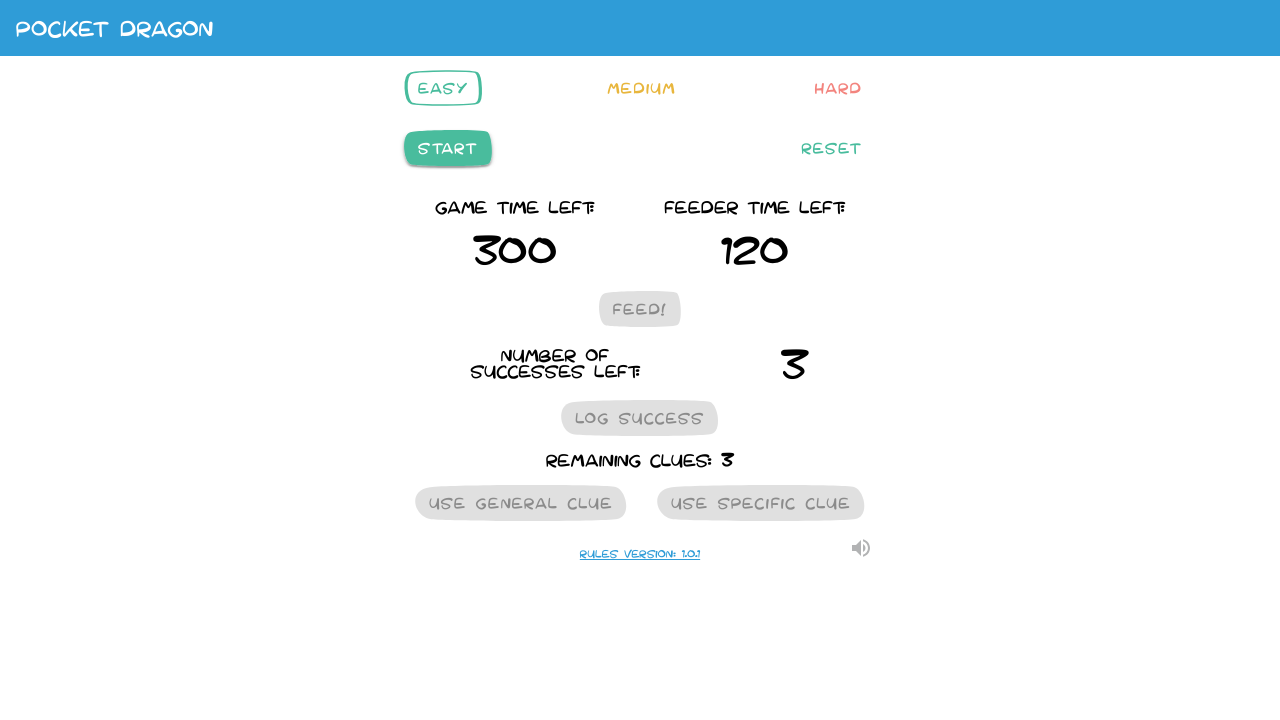
Test case: App › shows the win dialog after enough successes
Click the button with test id "start-pause" at (448,148), box [400,126,496,170]
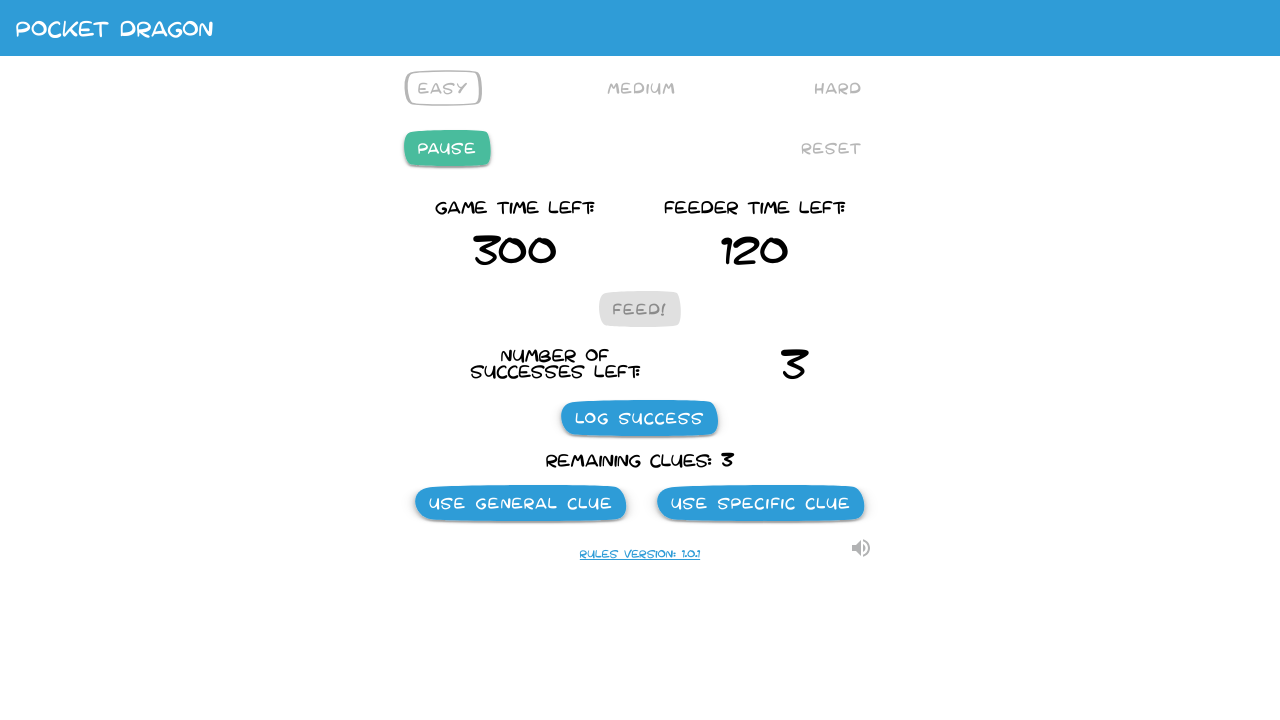
Click the button with test id "log-success" at (640,418), box [558,396,722,440]
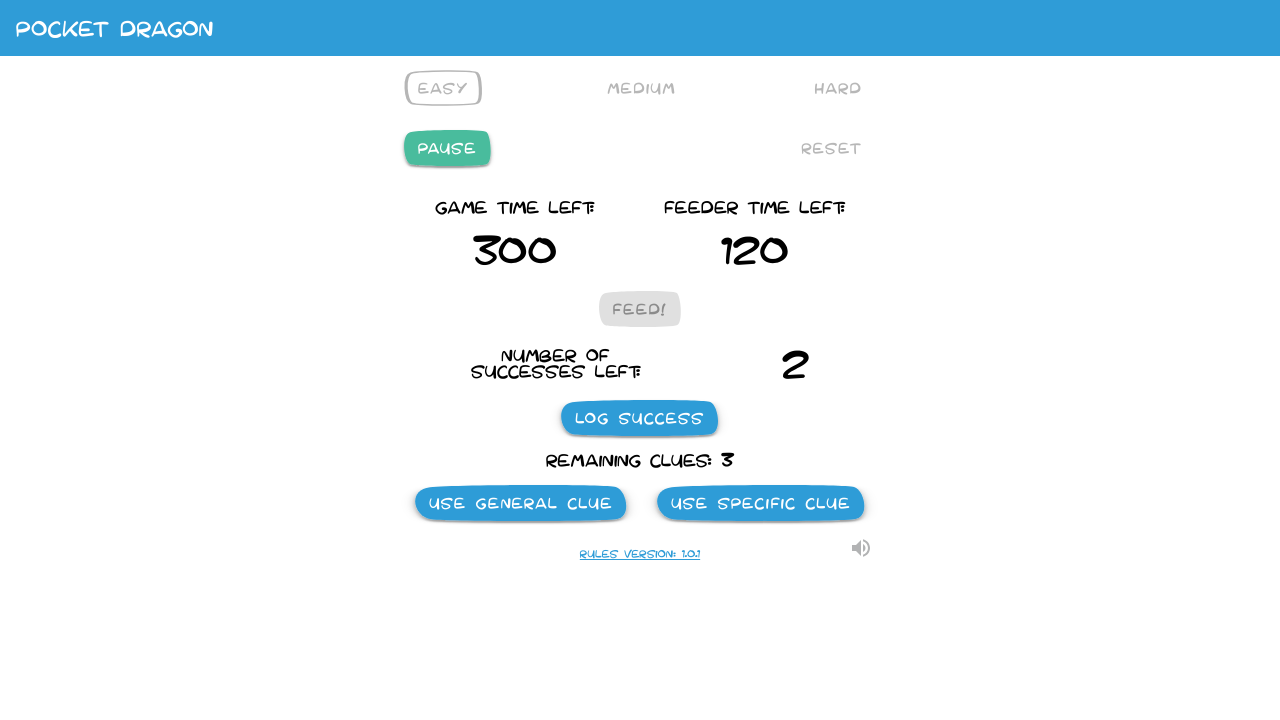
Click the button with test id "log-success" at (640,418), box [558,396,722,440]
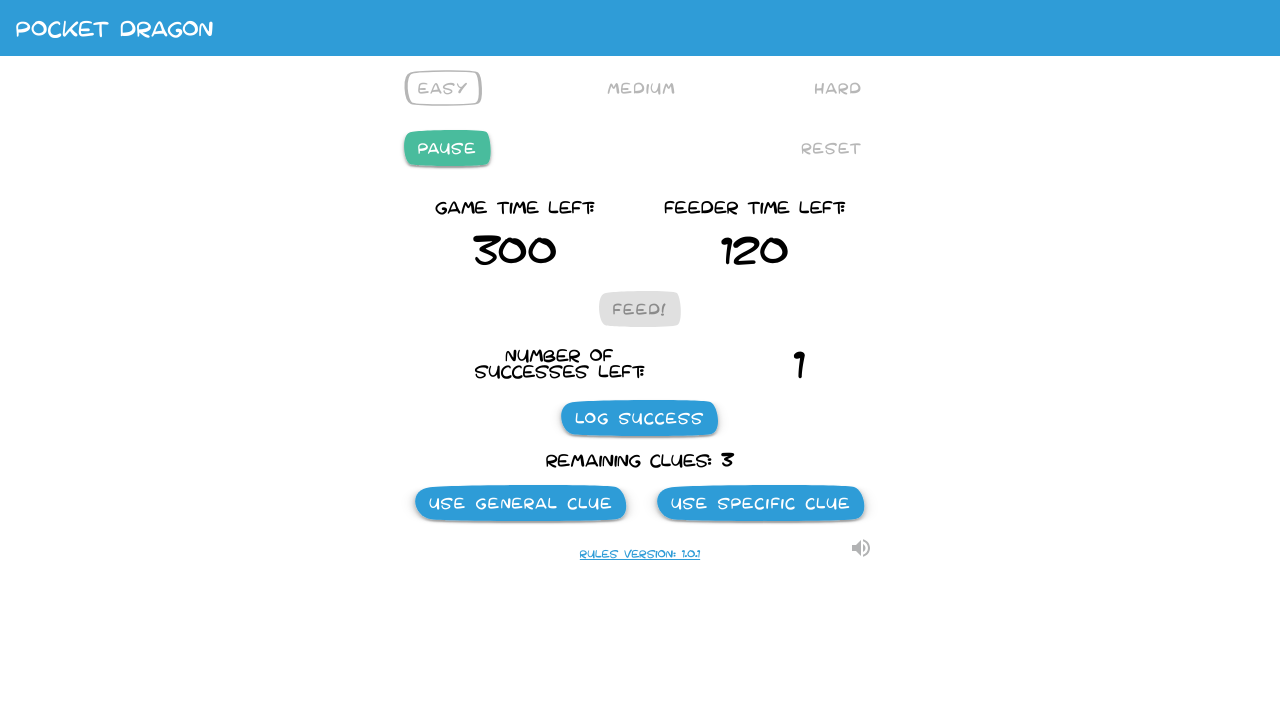
Click the button with test id "log-success" at (640,418), box [558,396,722,440]
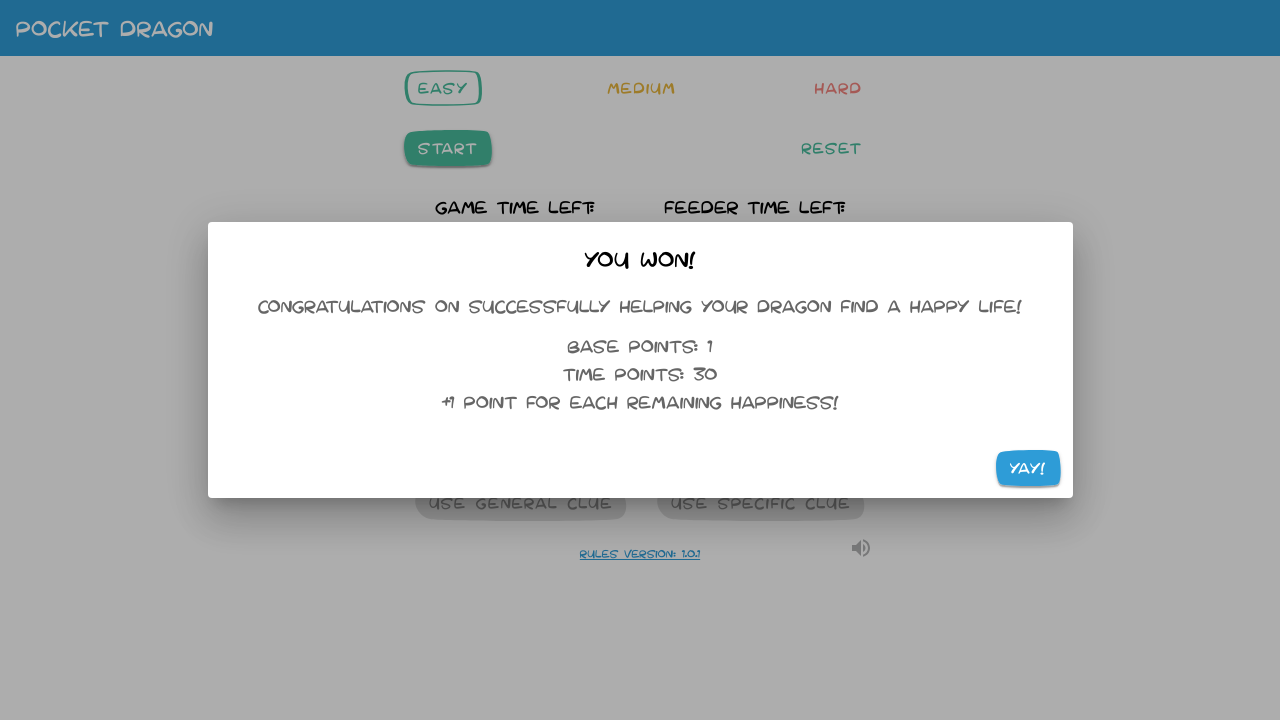
Expected: the heading with test id "game-over-heading" reads "You Won!", [584,250,696,269]
